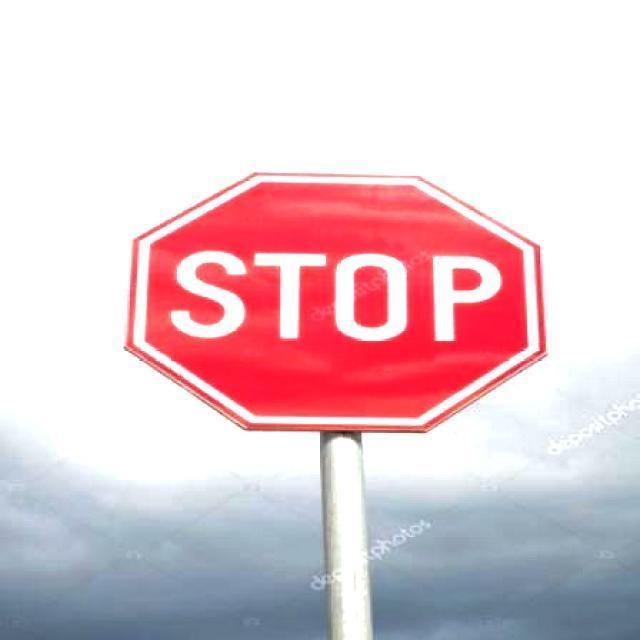Stop-Sign: (128, 174, 546, 432)
